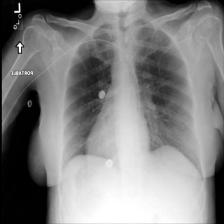normal: (56, 16, 207, 184)
